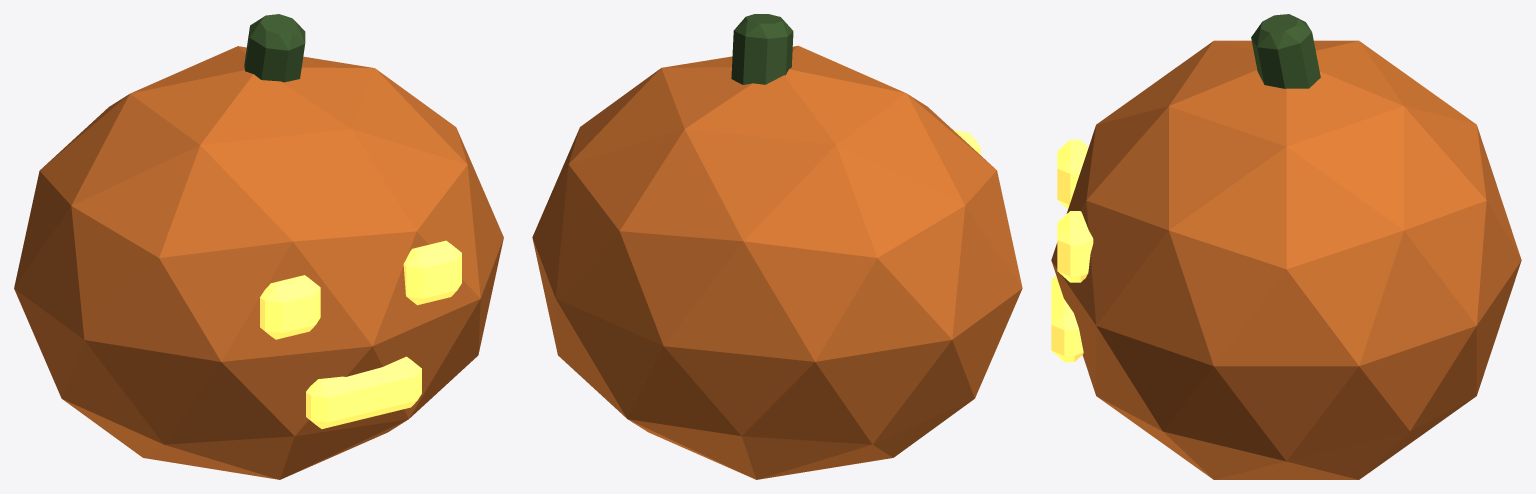
Rendered from prop_pumpkin_toss.glb.
3 renders of one model, left to right at view 1: azimuth 30°, elevation 25°; view 2: azimuth 150°, elevation 25°; view 3: azimuth 270°, elevation 25°, orthographic. The views are drawn at different scales.
Parts seen in each view (by area): view 1: prop_pumpkin_toss; view 2: prop_pumpkin_toss; view 3: prop_pumpkin_toss.
Boxes of the visible parts, bbox=[...] form: prop_pumpkin_toss: bbox=[14, 14, 503, 479]; prop_pumpkin_toss: bbox=[532, 14, 1022, 479]; prop_pumpkin_toss: bbox=[1051, 14, 1521, 479].
Bounding box in the file's own units: 0.4154 × 0.4126 × 0.39.
